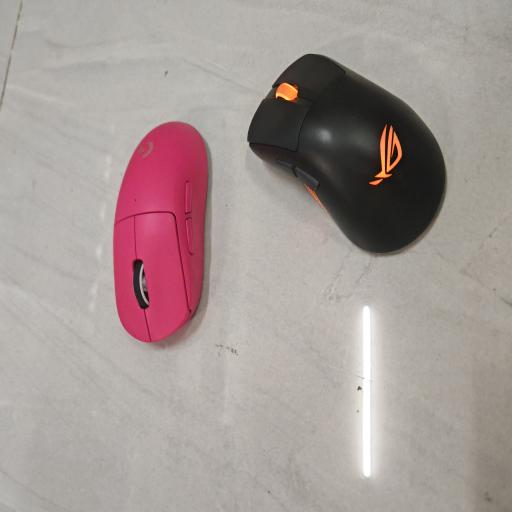mouse: (248, 54, 446, 252), (113, 122, 208, 342)
